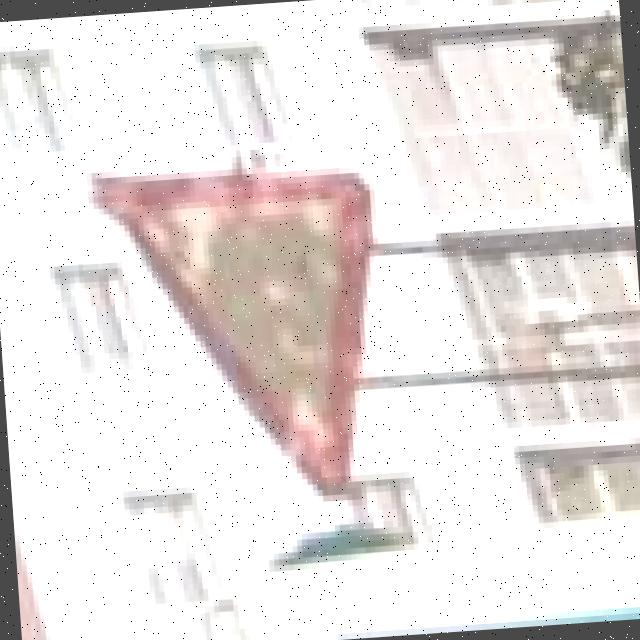Ustap pierwszenstwa: (86, 147, 390, 510)
